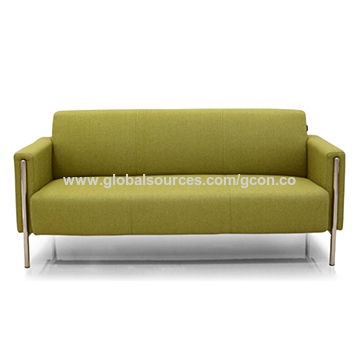chairs: (8, 107, 348, 271)
